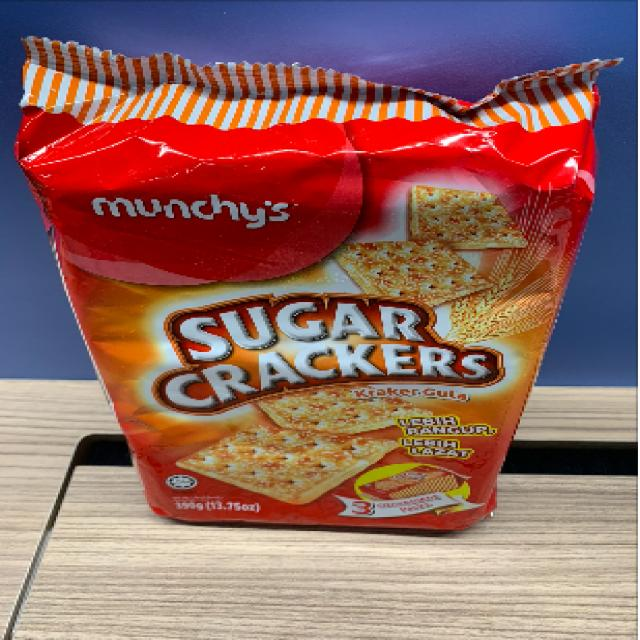object_name: (61, 67, 547, 536)
